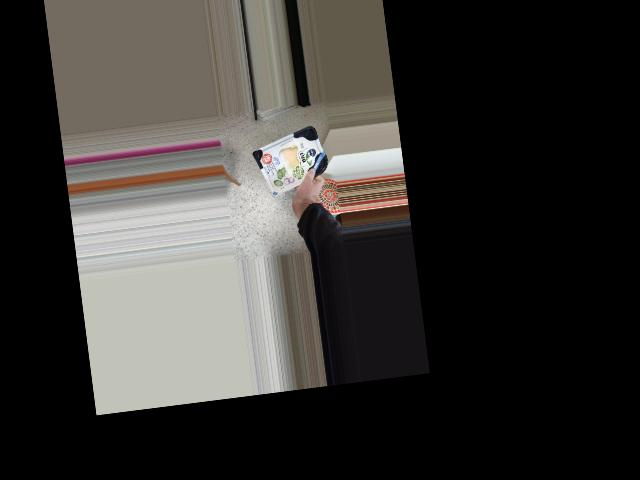cheese: (249, 123, 331, 196)
